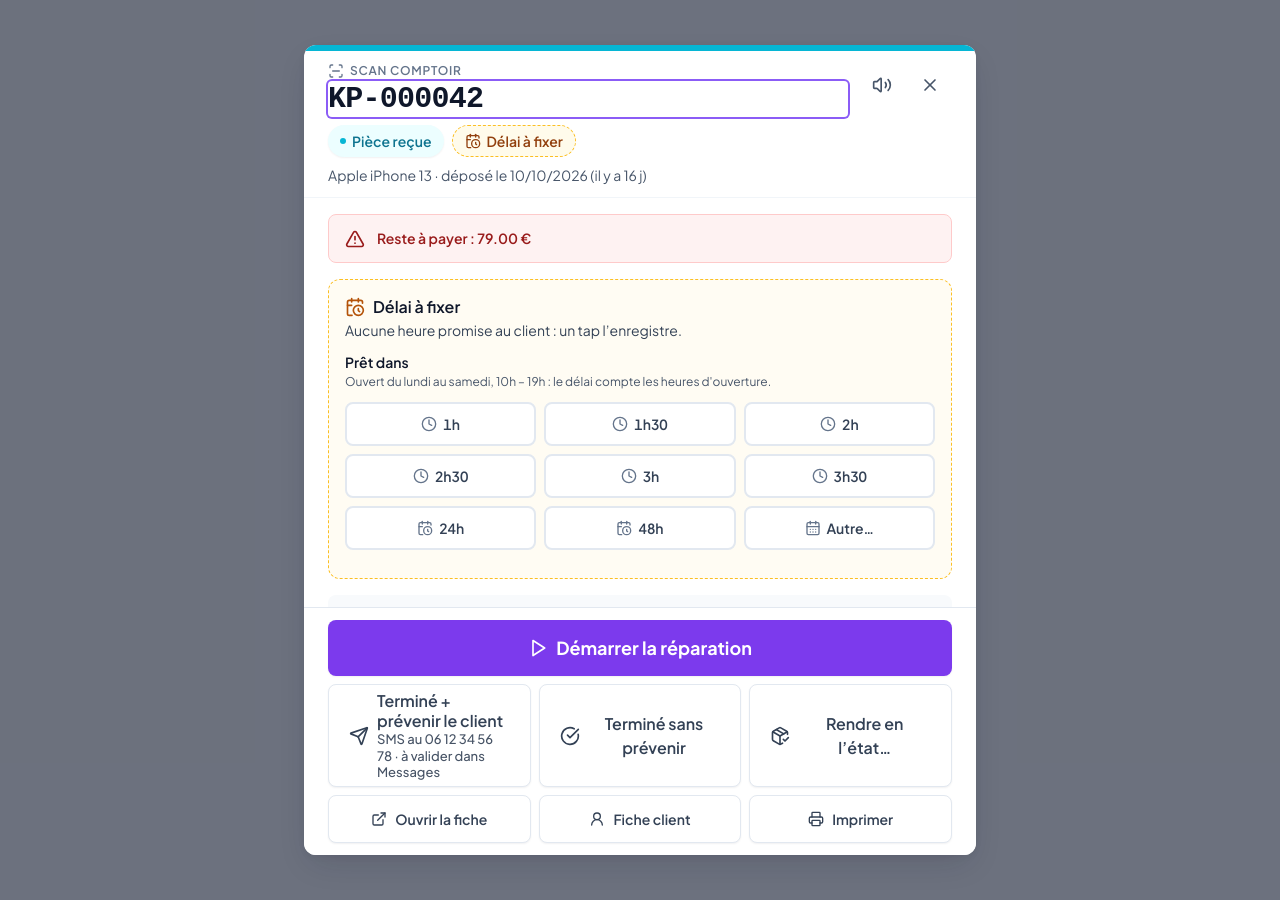
Test: QuickScanPanel : message « prêt » proposé après la fin de réparation › autre statut hors NOTIFICATIONS_STATUTS (démarrer) : aucune proposition
This screenshot has width=1280, height=900.
Click the button "Démarrer la réparation".
click(640, 648)  # box [328, 620, 952, 676]
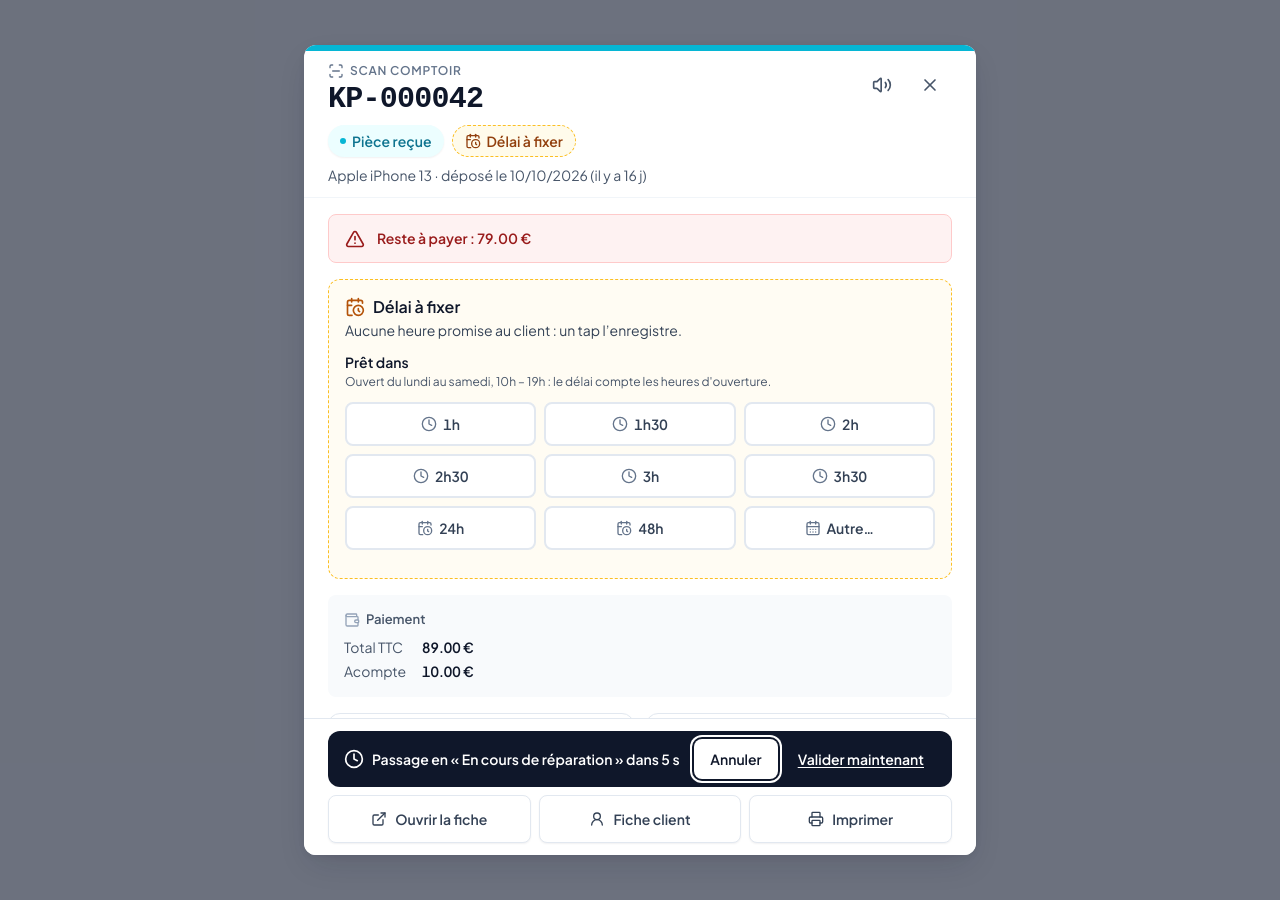
Click the button "Valider maintenant".
click(861, 759)  # box [786, 739, 936, 779]
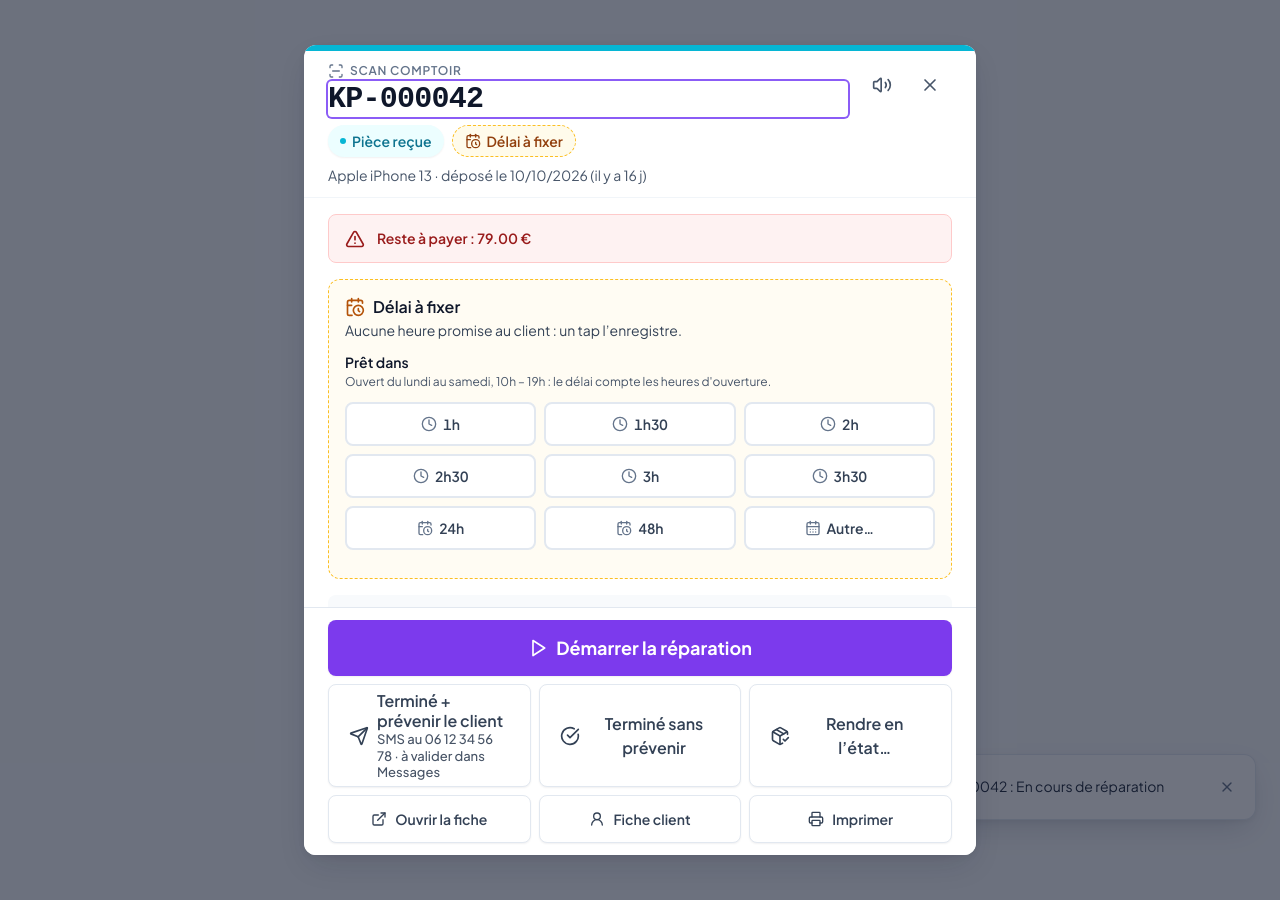
Now the text "KP-000042 : En cours de réparation" is shown, box [924, 775, 1195, 798]
